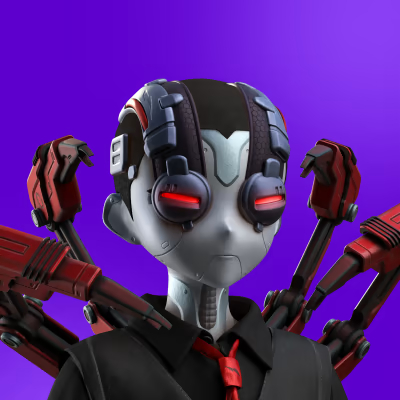Dress: (47, 279, 349, 400)
Eyes: (138, 162, 291, 234)
Head: (110, 76, 305, 159)
Mouth: (209, 245, 246, 285)
